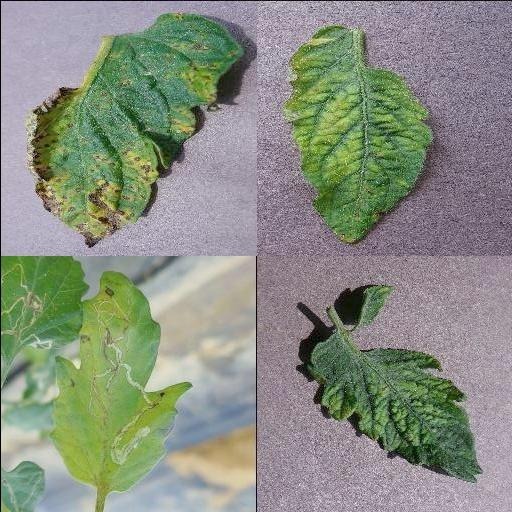Leaf Miner: (48, 271, 194, 493)
Mosaic Virus: (305, 285, 485, 483), (285, 23, 433, 247)
Septoria: (26, 12, 244, 250)
